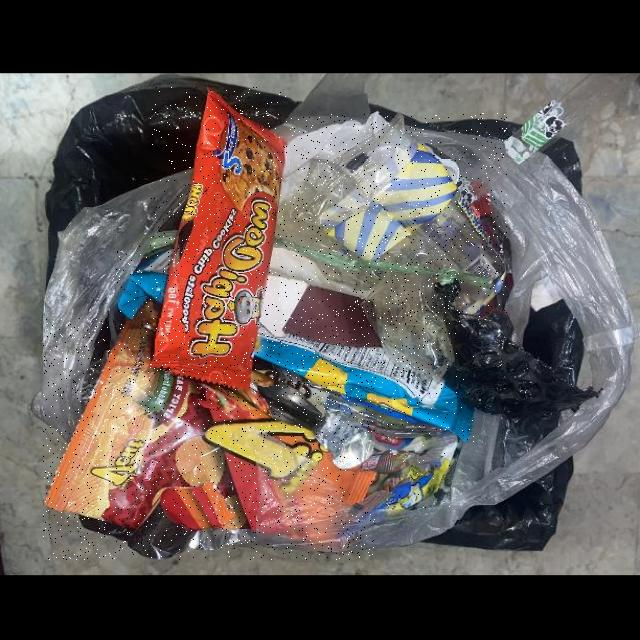plastic: (362, 233, 450, 378)
wrapper: (44, 318, 376, 560), (116, 246, 474, 442), (291, 113, 507, 316), (151, 87, 287, 392), (346, 434, 457, 512)
